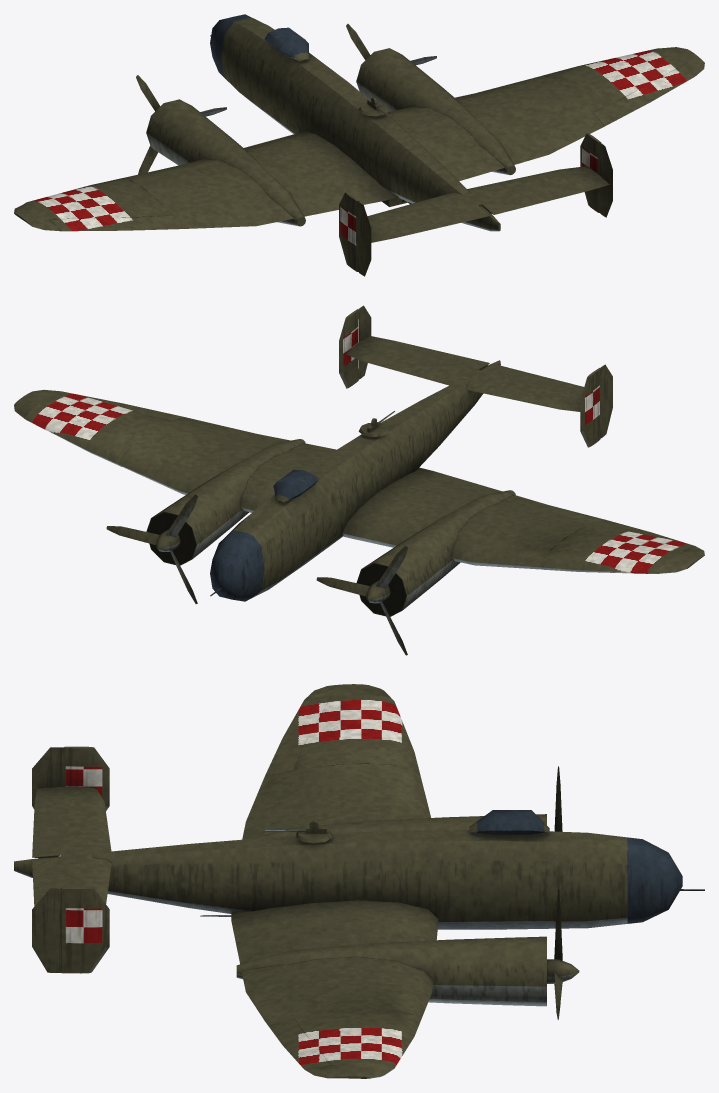
The model's file is PZL37B_MID.fbx.
3 views of the same model, one above another, from view 1: azimuth 30°, elevation 25°; view 2: azimuth 150°, elevation 25°; view 3: azimuth 270°, elevation 25° (orthographic). The views are drawn at different scales.
Visible parts, largest first — view 1: Chassis, Aileron_D, Aileron_G, Rudder, Elevator_D, Elevator_G, Helice_LS_1, Helice_LS_2; view 2: Chassis, Rudder, Helice_LS_1, Helice_LS_2, Elevator_D, Elevator_G, Aileron_D, Aileron_G; view 3: Chassis, Rudder, Aileron_G, Elevator_G, Aileron_D, Elevator_D, Helice_LS_2.
Boxes of the visible parts, x1,y1,x2,y2 form: Chassis: (14,14,704,271); Aileron_D: (593,64,694,125); Aileron_G: (49,215,183,231); Rudder: (358,142,612,276); Elevator_D: (482,176,609,214); Elevator_G: (371,205,489,242); Helice_LS_1: (136,75,226,174); Helice_LS_2: (346,24,436,65); Chassis: (14,309,704,616); Rudder: (358,305,612,438); Helice_LS_1: (316,545,408,655); Helice_LS_2: (106,494,198,603); Elevator_D: (360,336,489,369); Elevator_G: (482,364,583,395); Aileron_D: (49,391,183,420); Aileron_G: (593,519,694,550); Chassis: (14,684,682,1078); Rudder: (32,747,62,972); Aileron_G: (265,695,332,775); Elevator_G: (32,787,60,858); Aileron_D: (265,1015,331,1069); Elevator_D: (32,857,60,906); Helice_LS_2: (554,889,562,1019).
Size of the model in its own units: 1793 by 1335 by 340.
1 material, 1 textured.
